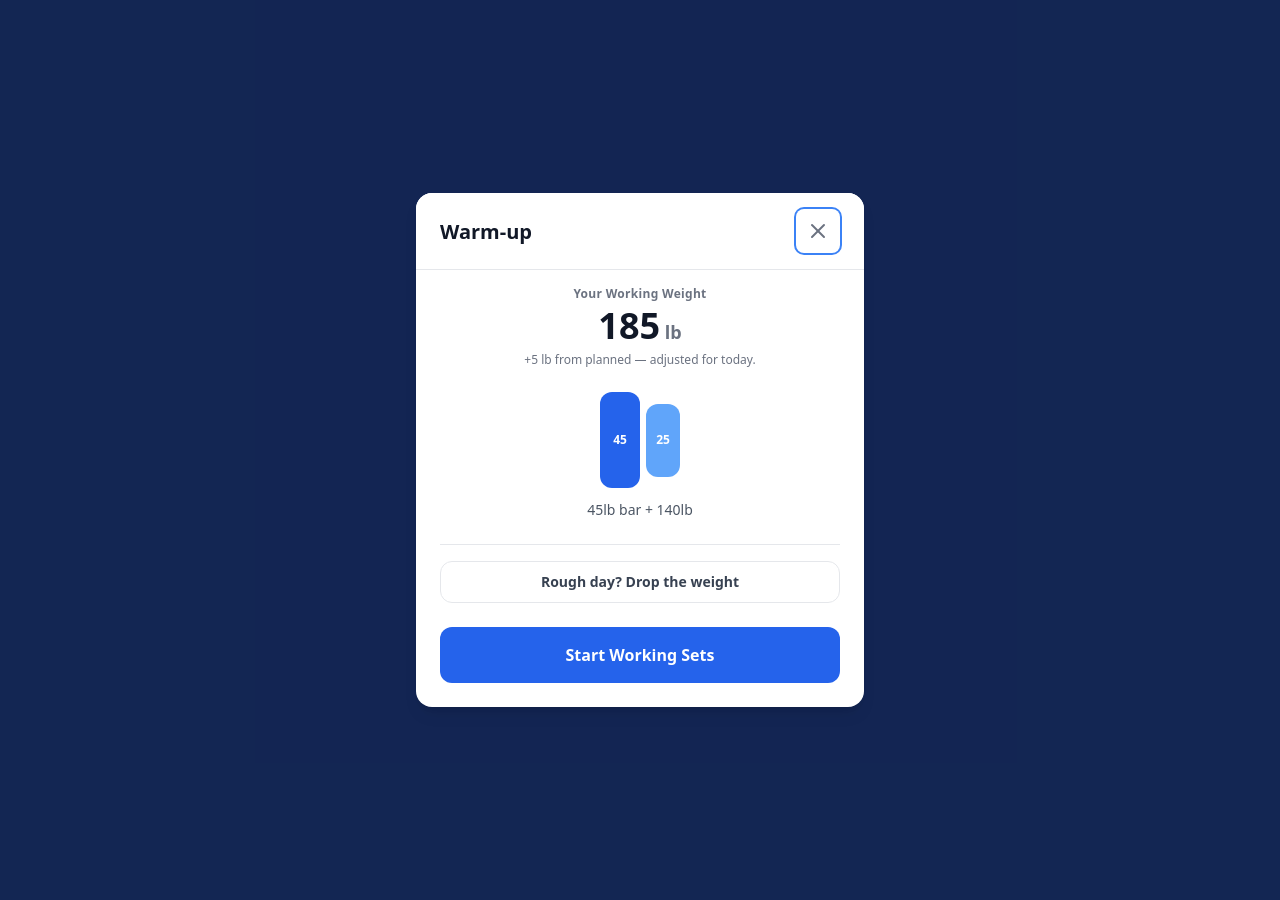
Test: bad-day weight reduction (warm-up flow final card) › expands with correct ARIA state and offers percentage drops
Later steps or results of the test are not shown.
Click the button "Rough day? Drop the weight" at (640, 582), box [440, 561, 840, 603]
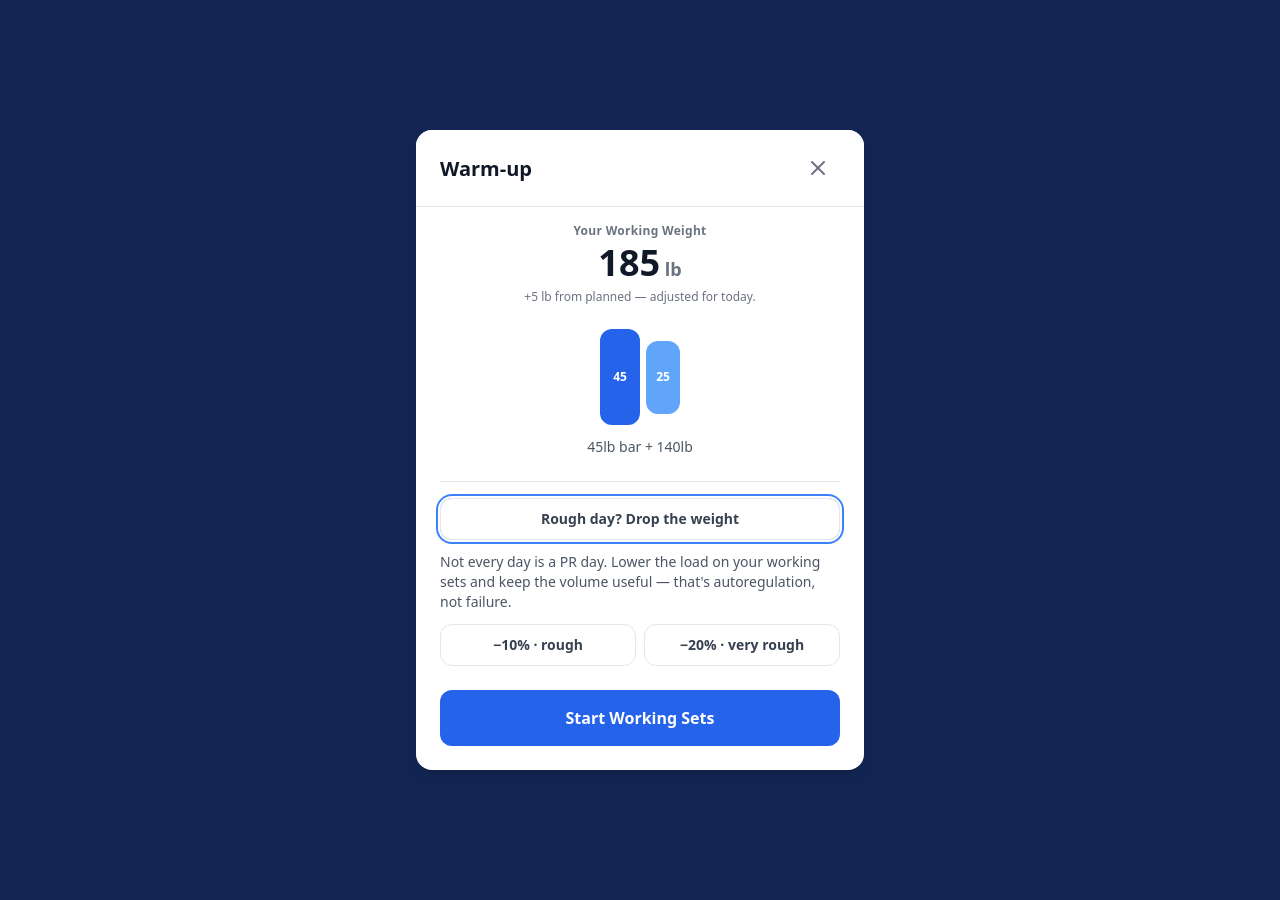
Expected: the button "Rough day? Drop the weight" is expanded, [440, 498, 840, 540]
